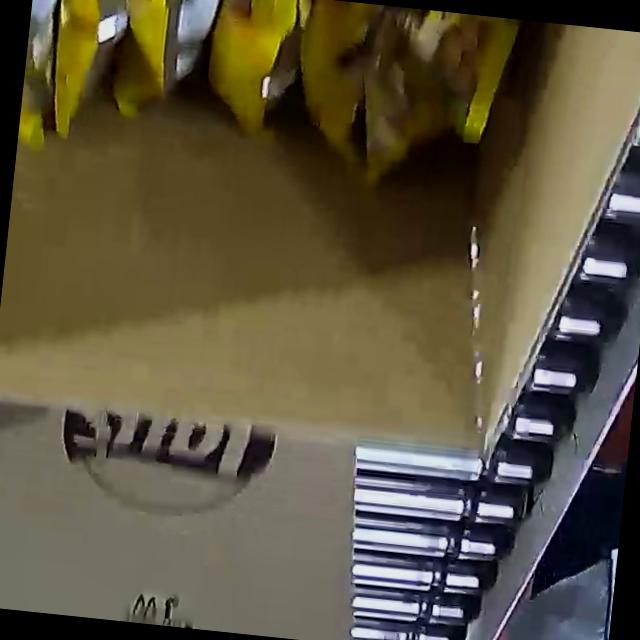salted: (16, 0, 572, 208)
